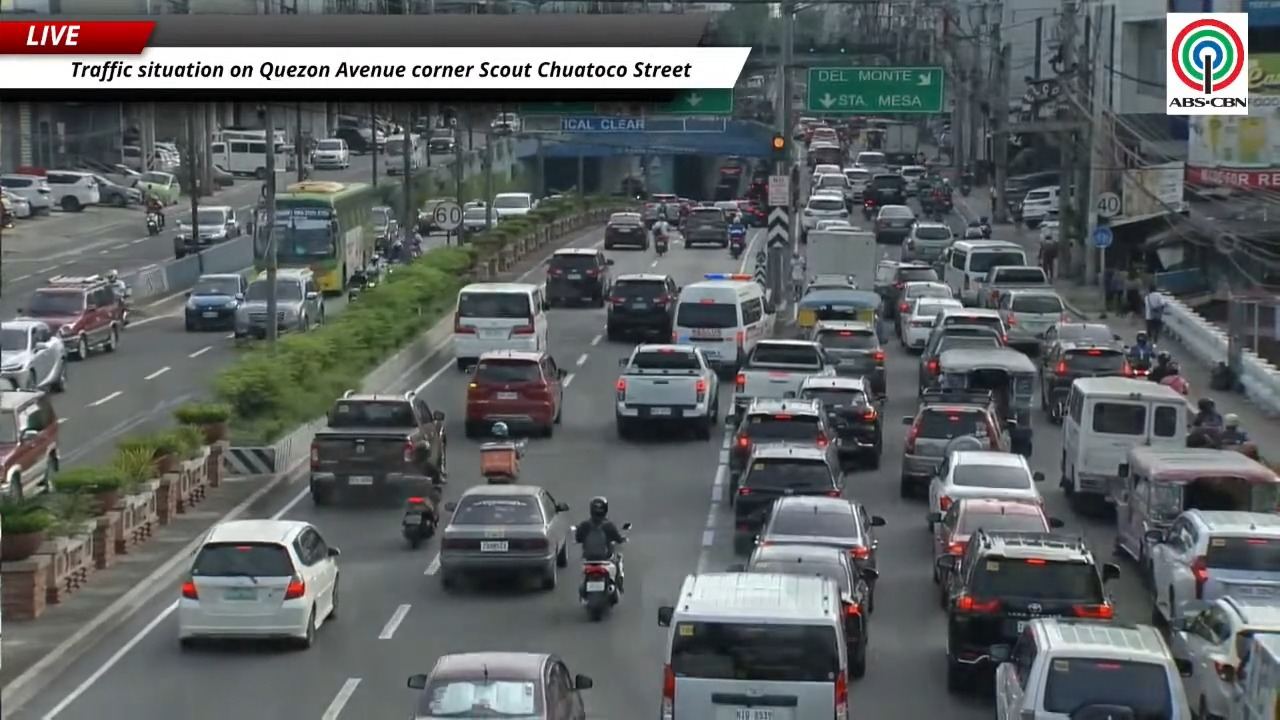bus: (272, 180, 379, 294), (210, 138, 266, 179)
car: (935, 528, 1119, 692), (990, 618, 1222, 719), (177, 519, 339, 647), (731, 544, 877, 677), (1144, 509, 1279, 624), (438, 484, 572, 589), (1170, 596, 1279, 717), (730, 442, 842, 554), (407, 652, 592, 719), (930, 498, 1062, 583), (900, 392, 1005, 498), (728, 399, 832, 503), (758, 494, 884, 569), (464, 350, 567, 437), (19, 275, 123, 359), (798, 376, 882, 468), (927, 451, 1044, 514), (0, 389, 59, 500), (1039, 342, 1133, 409), (918, 325, 1004, 393), (812, 320, 886, 398), (606, 273, 679, 340), (0, 319, 66, 391), (996, 288, 1069, 351), (545, 248, 613, 306), (1037, 321, 1122, 365), (184, 273, 247, 331), (173, 206, 242, 258), (876, 263, 939, 318), (898, 296, 961, 350), (274, 268, 325, 333), (893, 280, 953, 334), (934, 308, 1006, 345), (800, 194, 848, 242), (45, 170, 100, 211), (900, 221, 954, 262), (0, 174, 53, 213), (680, 207, 728, 247), (864, 171, 906, 215), (604, 212, 648, 250), (874, 204, 916, 243), (135, 170, 181, 205), (811, 165, 851, 205), (92, 174, 141, 206), (333, 126, 384, 153), (311, 137, 349, 169), (371, 206, 398, 249), (461, 205, 499, 234), (842, 167, 870, 202), (806, 274, 857, 293), (0, 188, 32, 218), (899, 165, 928, 194), (736, 199, 766, 226), (491, 112, 522, 134), (173, 165, 201, 187), (1038, 213, 1059, 242), (427, 135, 456, 154), (815, 219, 855, 231)
motorcycle: (579, 560, 618, 621), (480, 438, 526, 483), (401, 496, 438, 549), (1048, 390, 1068, 425), (1127, 354, 1153, 379), (117, 285, 131, 326), (1049, 392, 1066, 424), (145, 212, 162, 236), (729, 234, 745, 259), (958, 172, 973, 197), (654, 235, 668, 256), (729, 240, 744, 259), (863, 199, 876, 219), (958, 181, 971, 196)
truck: (310, 391, 446, 505), (615, 344, 718, 439), (730, 339, 835, 426), (1228, 633, 1279, 719), (806, 228, 879, 288), (976, 266, 1051, 308), (882, 123, 919, 154)
